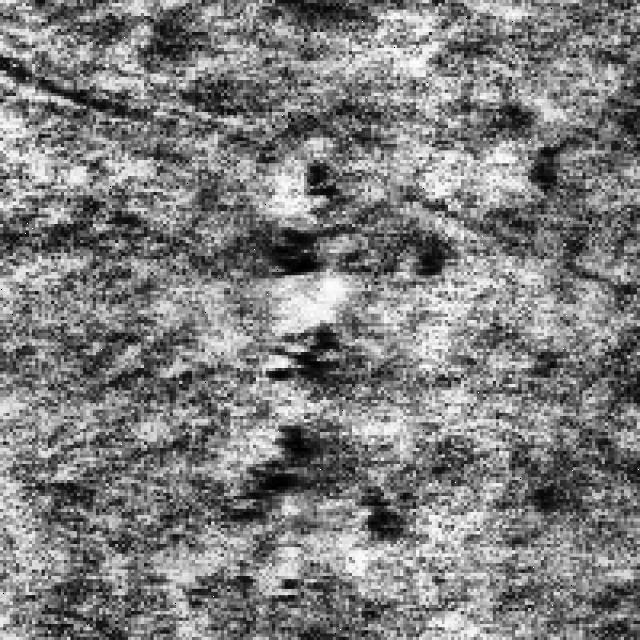Crazing: (243, 207, 384, 518)
